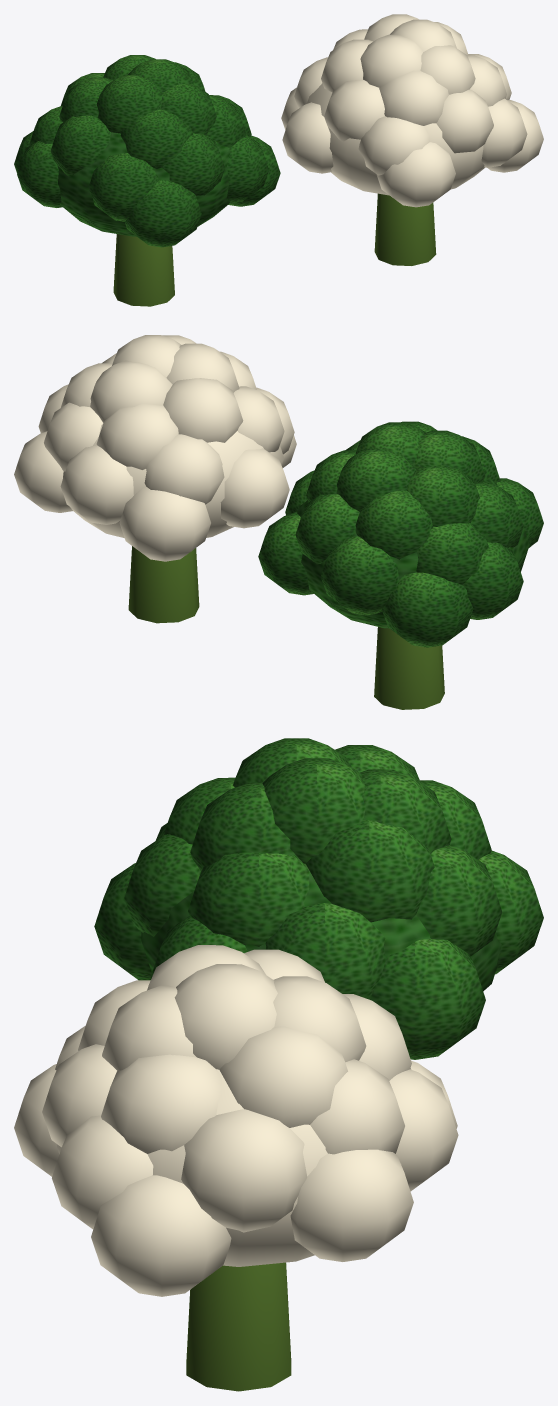
Rendered from veg_broccoli_cauliflower.glb.
The picture shows the model from 3 angles, top to bottom: view 1: azimuth 30°, elevation 25°; view 2: azimuth 150°, elevation 25°; view 3: azimuth 270°, elevation 25°; orthographic projection. The views are drawn at different scales.
Parts seen in each view (by area): view 1: veg_broccoli_cauliflower; view 2: veg_broccoli_cauliflower; view 3: veg_broccoli_cauliflower.
Boxes of the visible parts, x1=… form: veg_broccoli_cauliflower: x1=14, y1=14, x2=543, y2=306; veg_broccoli_cauliflower: x1=14, y1=335, x2=543, y2=709; veg_broccoli_cauliflower: x1=14, y1=738, x2=543, y2=1391.
Size of the model in its own units: 0.2209 by 0.1061 by 0.1249.
Materials: 3 (1 with a texture image).
